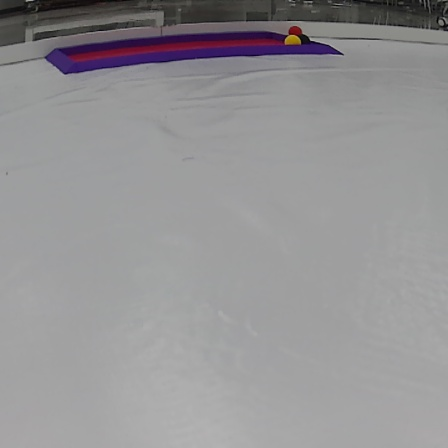black: (301, 34, 310, 43)
red: (286, 23, 305, 34)
red_aim: (44, 31, 345, 75)
yellow: (283, 32, 299, 48)
